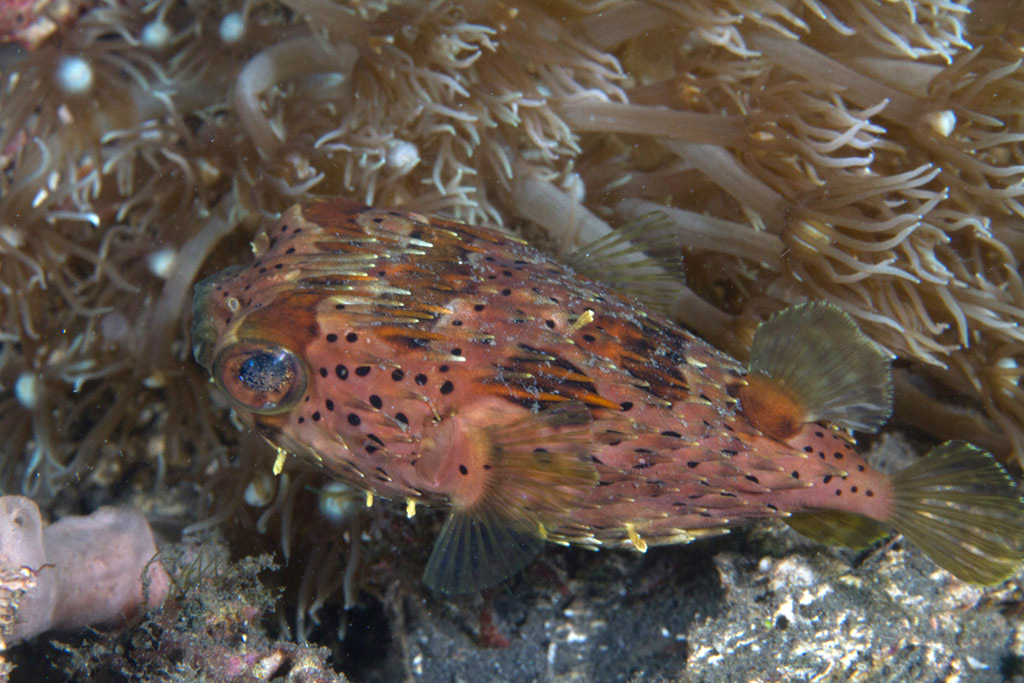Diodon_holocanthus: (197, 195, 999, 607)
